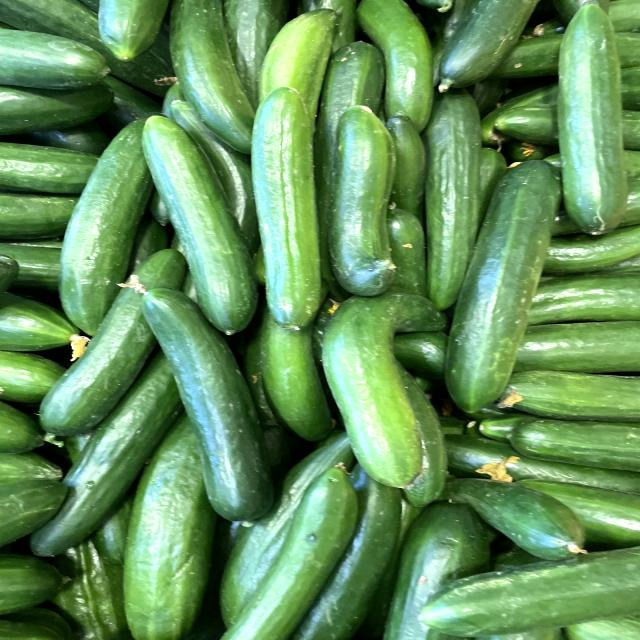cucumber: (124, 271, 289, 529), (426, 150, 582, 418), (122, 110, 266, 337), (537, 3, 640, 241), (249, 77, 332, 340)
